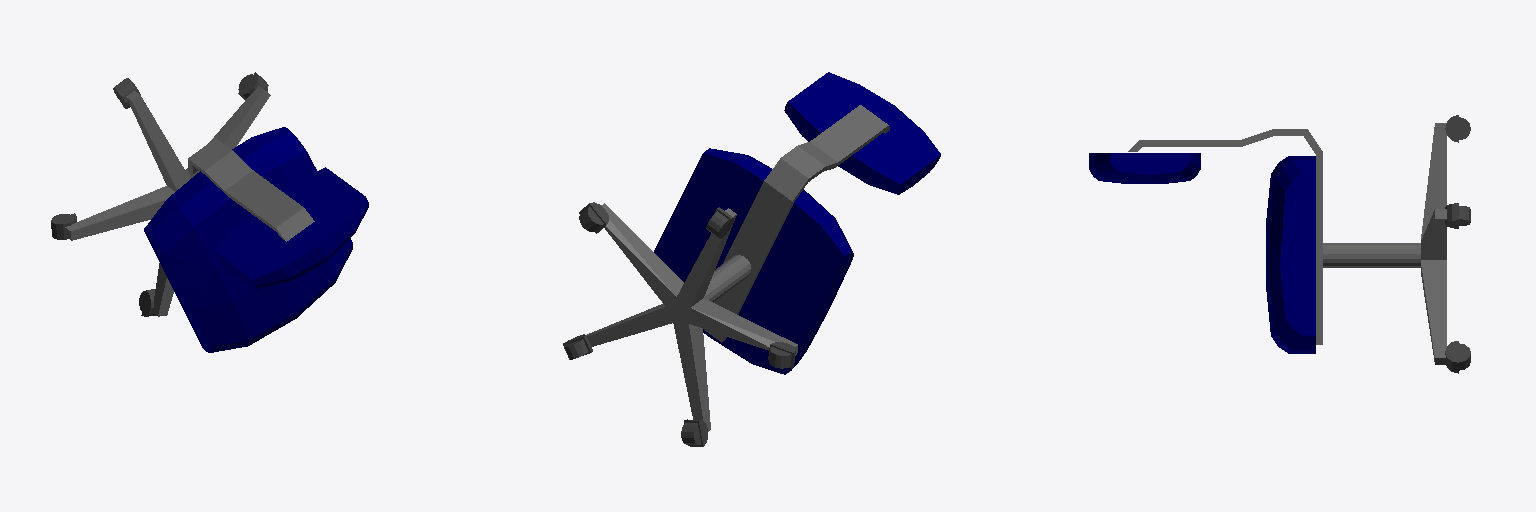
The model's file is chair04.obj.
3 renders of one model, left to right at view 1: azimuth 30°, elevation 25°; view 2: azimuth 150°, elevation 25°; view 3: azimuth 270°, elevation 25°, orthographic.
Parts seen in each view (by area): view 1: CHAIR; view 2: CHAIR; view 3: CHAIR.
Part boxes in pixels (left/top/right/bottom): CHAIR: left=51, top=72, right=368, bottom=352; CHAIR: left=563, top=72, right=940, bottom=446; CHAIR: left=1089, top=115, right=1470, bottom=373.
Size of the model in its own units: 271 by 274 by 387.